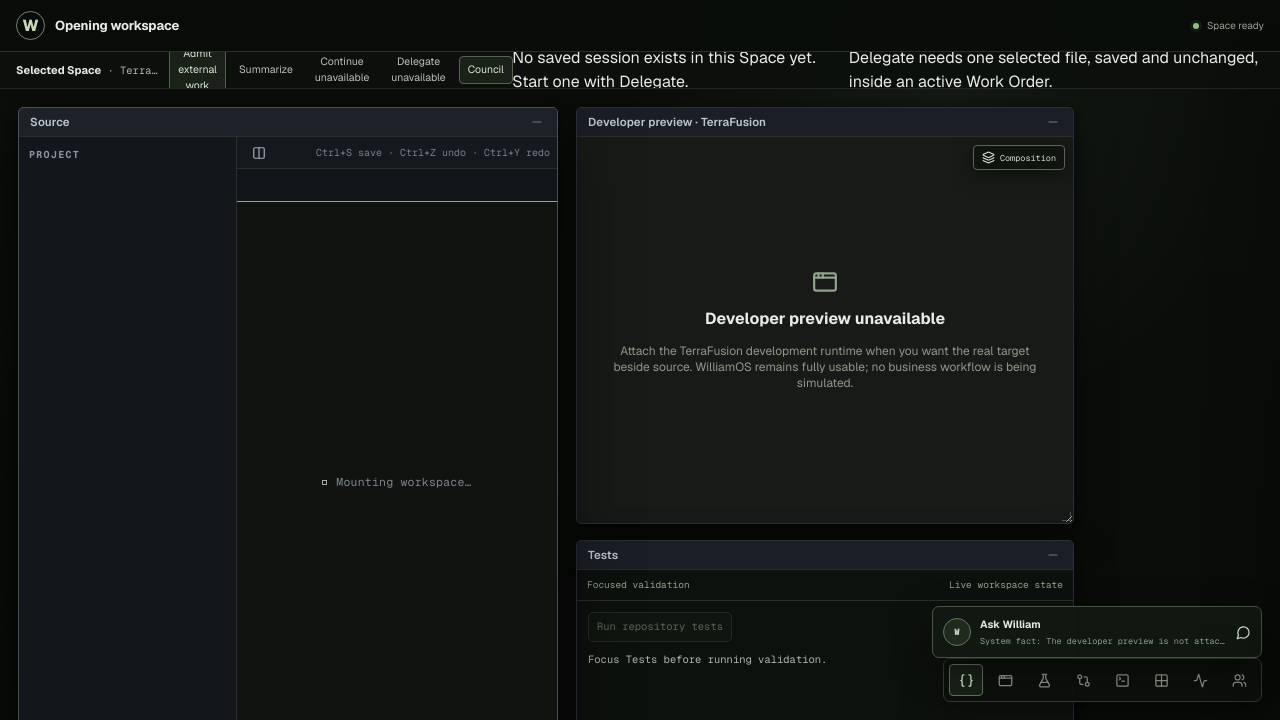
it: Experience V2 multi-Space re-entry › renders current and inactive skipped migrated records unknown instead of understating their saved sessions
The width and height of the screenshot is (1280, 720).
Step 1. Click the button named "Open Mission Control" → (1161, 680), box [1144,664,1178,696]
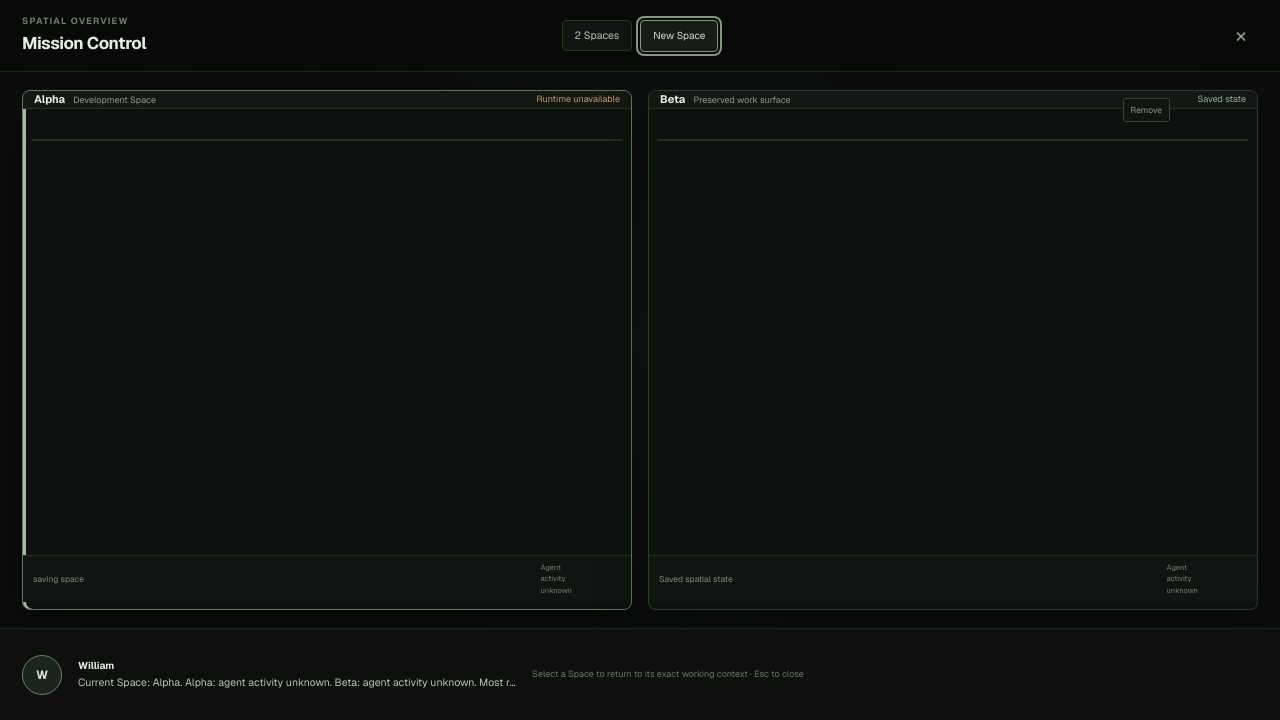
expect the button "Enter Alpha, current Space" does not show "Would understate": met
expect the button with aria-label "Enter Alpha, current Space" shows "Agent activity unknown": met, box [22,90,632,610]
expect the button with aria-label "Enter Beta" shows "Agent activity unknown": met, box [648,90,1258,610]
